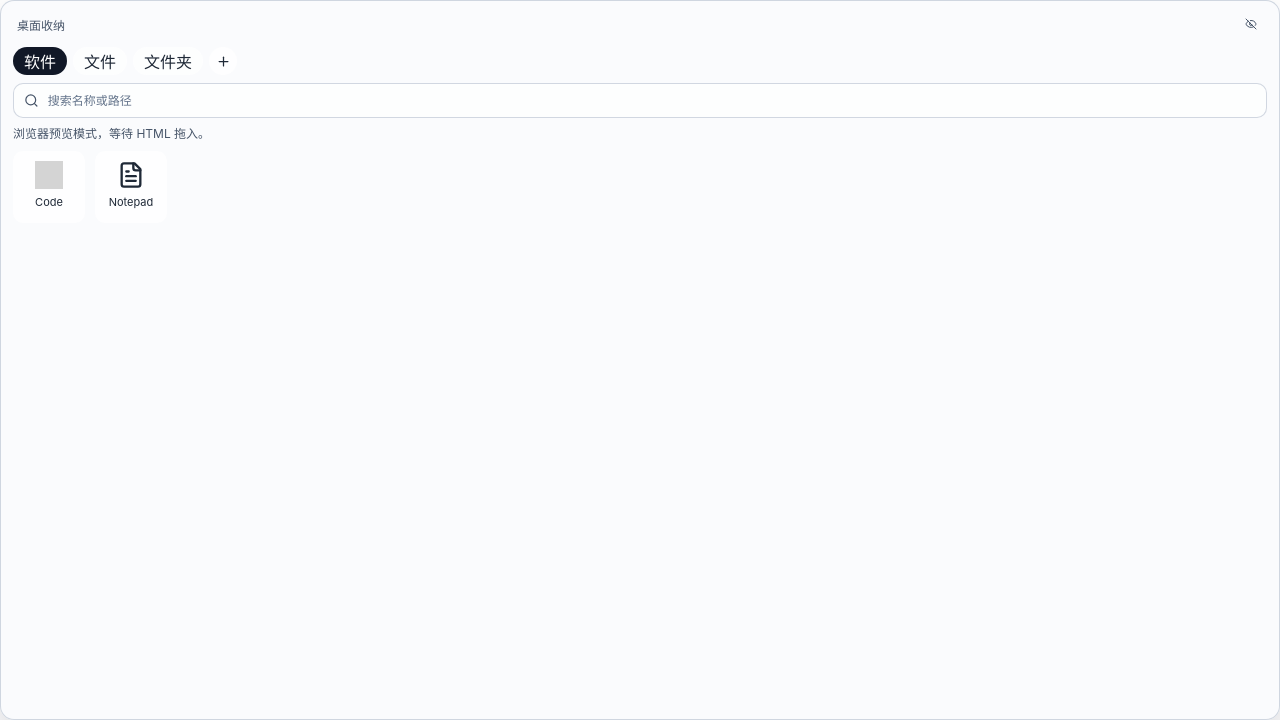
Test: App › 右键软件图标后可以重命名并保存
Right-click the button "Code" at (49, 187), box [13, 151, 85, 223]
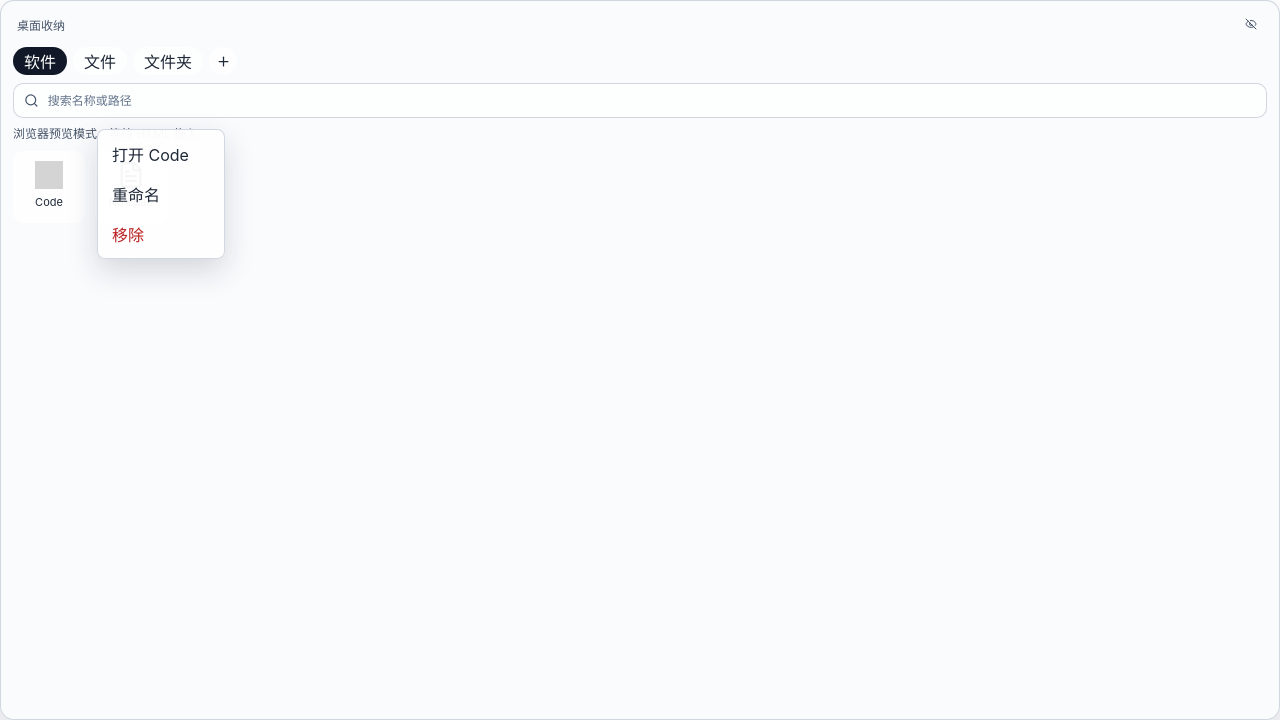
Click the menu item "重命名" at (161, 194), box [103, 175, 219, 213]
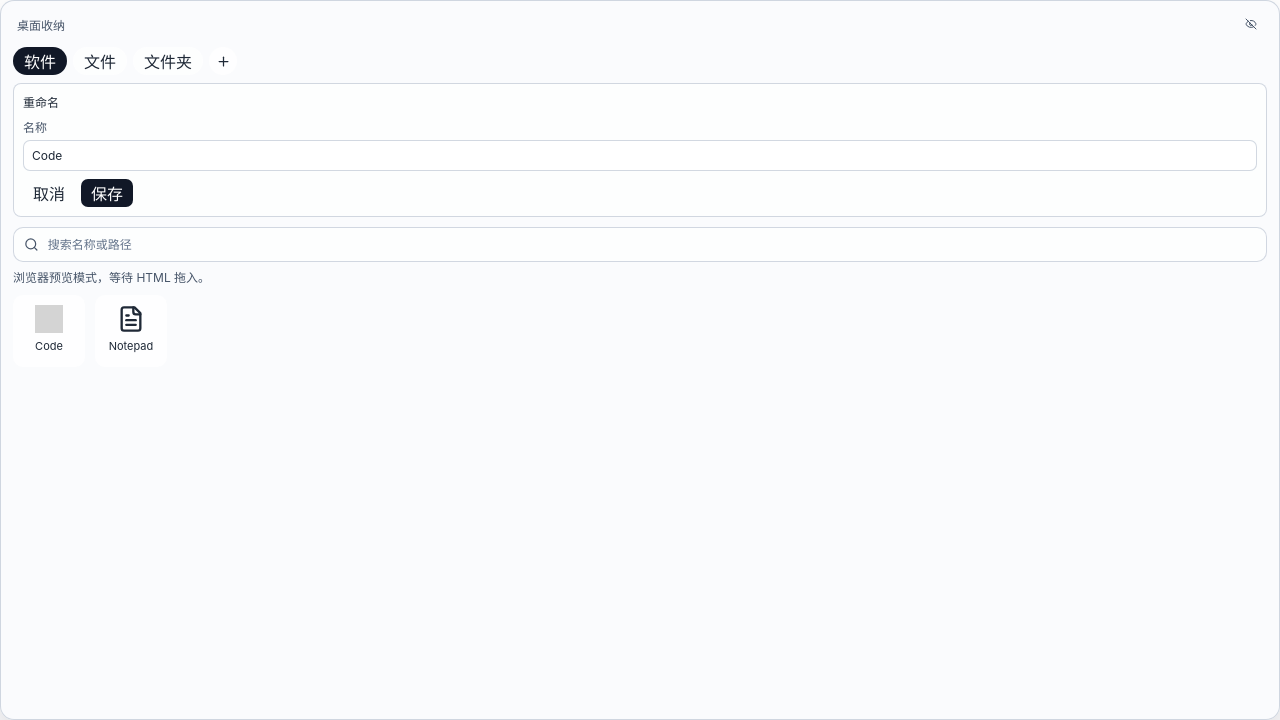
Replace the text in the field labelled "名称" with "VS Code" at (640, 156), box [23, 140, 1257, 171]
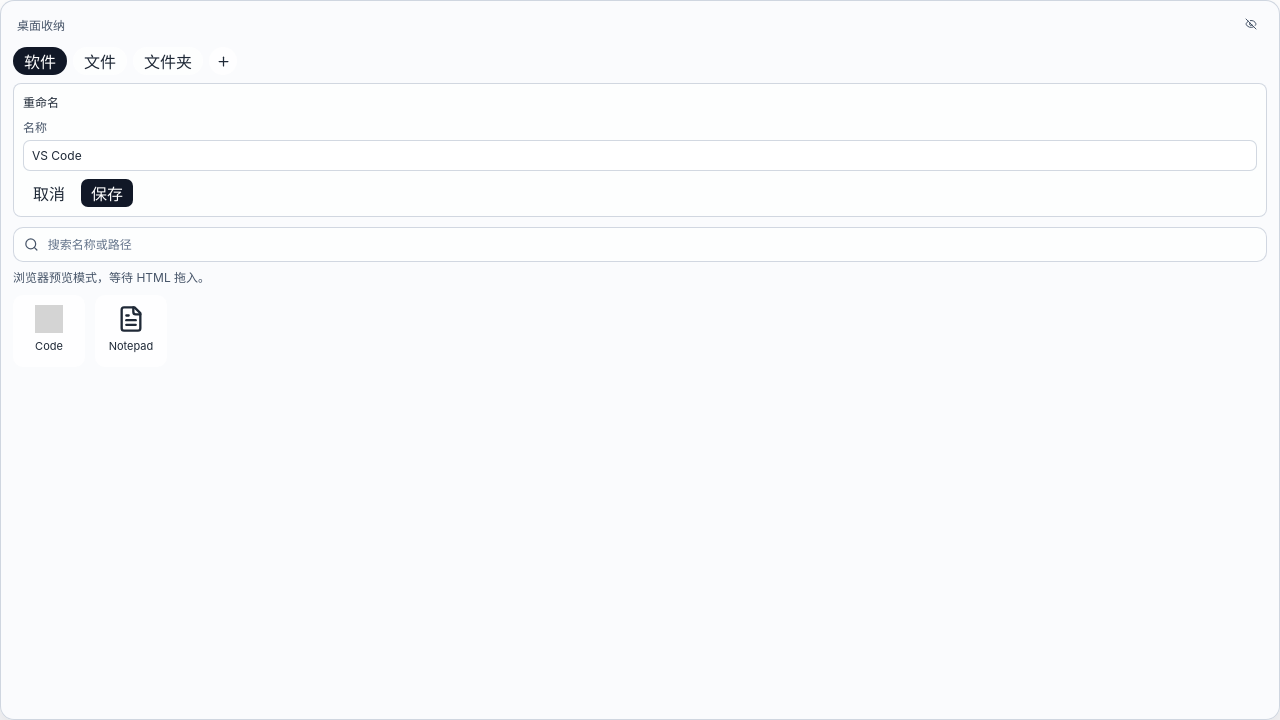
Click the button "保存" at (107, 193), box [81, 179, 133, 207]
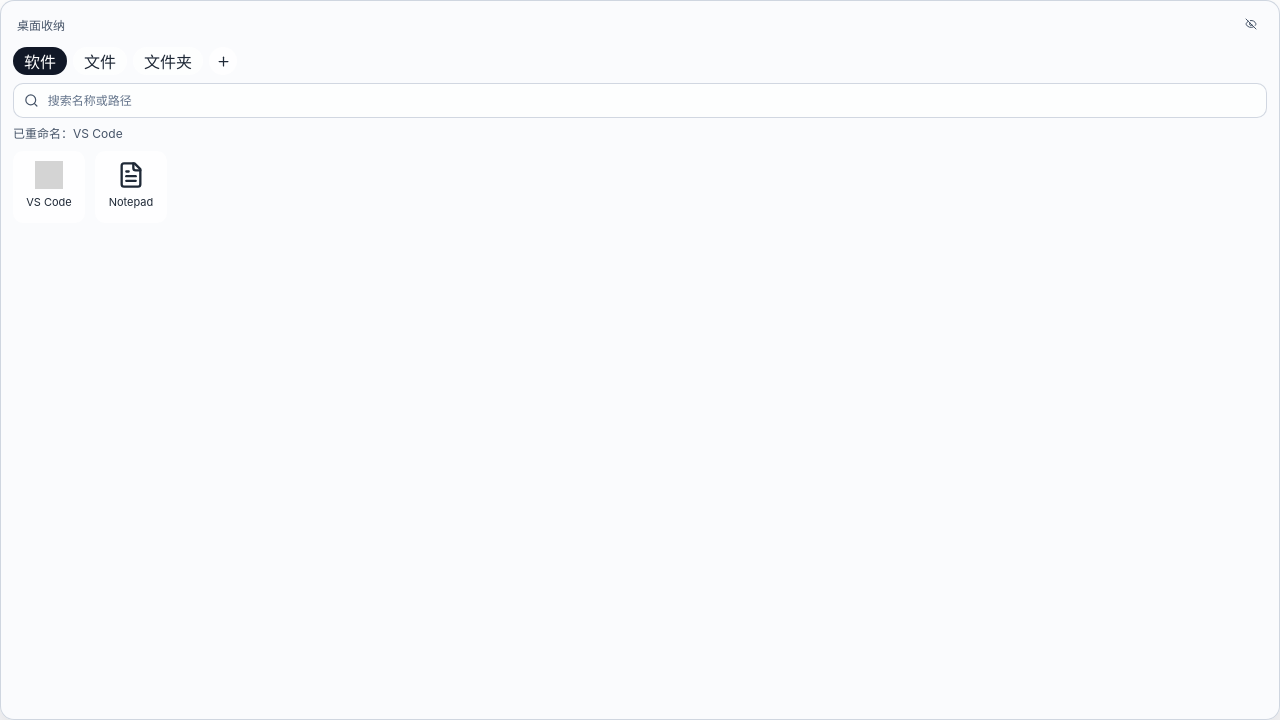
Expected: the button "VS Code" is shown, [13, 151, 85, 223]
